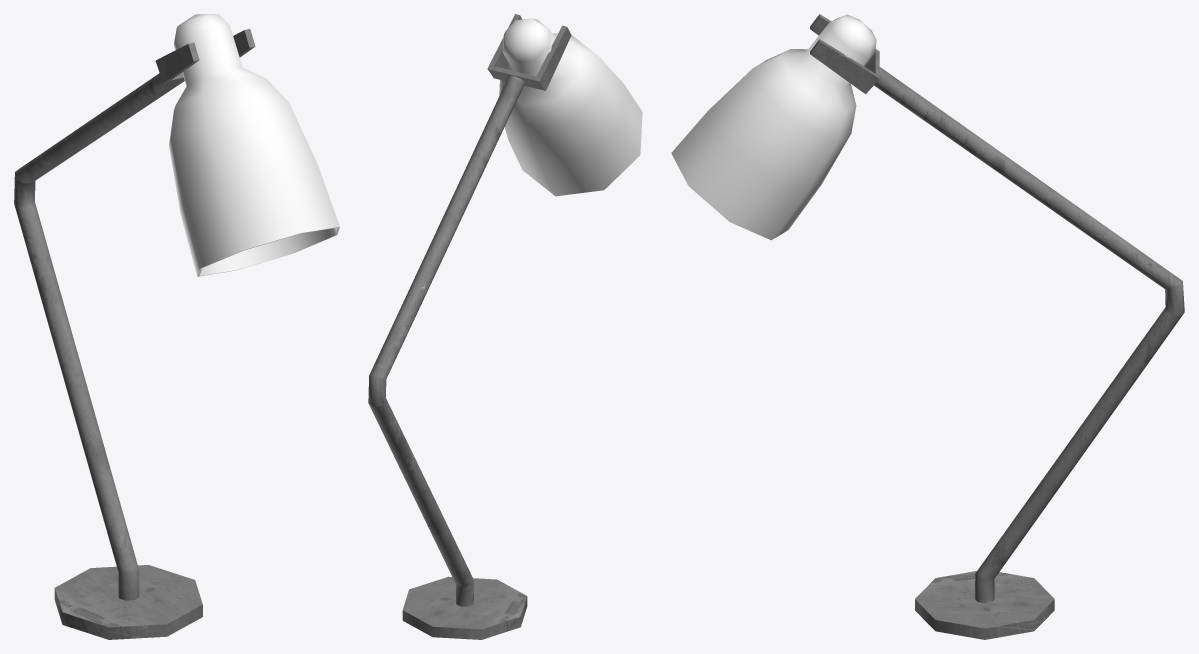
3 views of the same model, side by side, from view 1: azimuth 30°, elevation 25°; view 2: azimuth 150°, elevation 25°; view 3: azimuth 270°, elevation 25° (orthographic). The views are drawn at different scales.
Parts seen in each view (by area): view 1: table_lamp1; view 2: table_lamp1; view 3: table_lamp1.
Boxes of the visible parts, box(x1,y1,x2,y2) form: table_lamp1: box(14, 14, 339, 639); table_lamp1: box(368, 14, 642, 639); table_lamp1: box(671, 14, 1184, 639).
Size of the model in its own units: 0.4443 by 2.01 by 1.58.
Materials: 1 (1 with a texture image).
